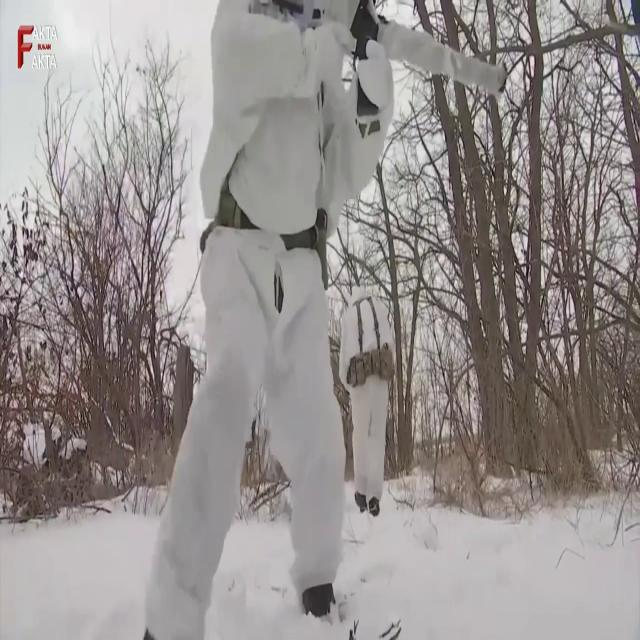Camouflage: (142, 2, 510, 640), (338, 280, 393, 519)
